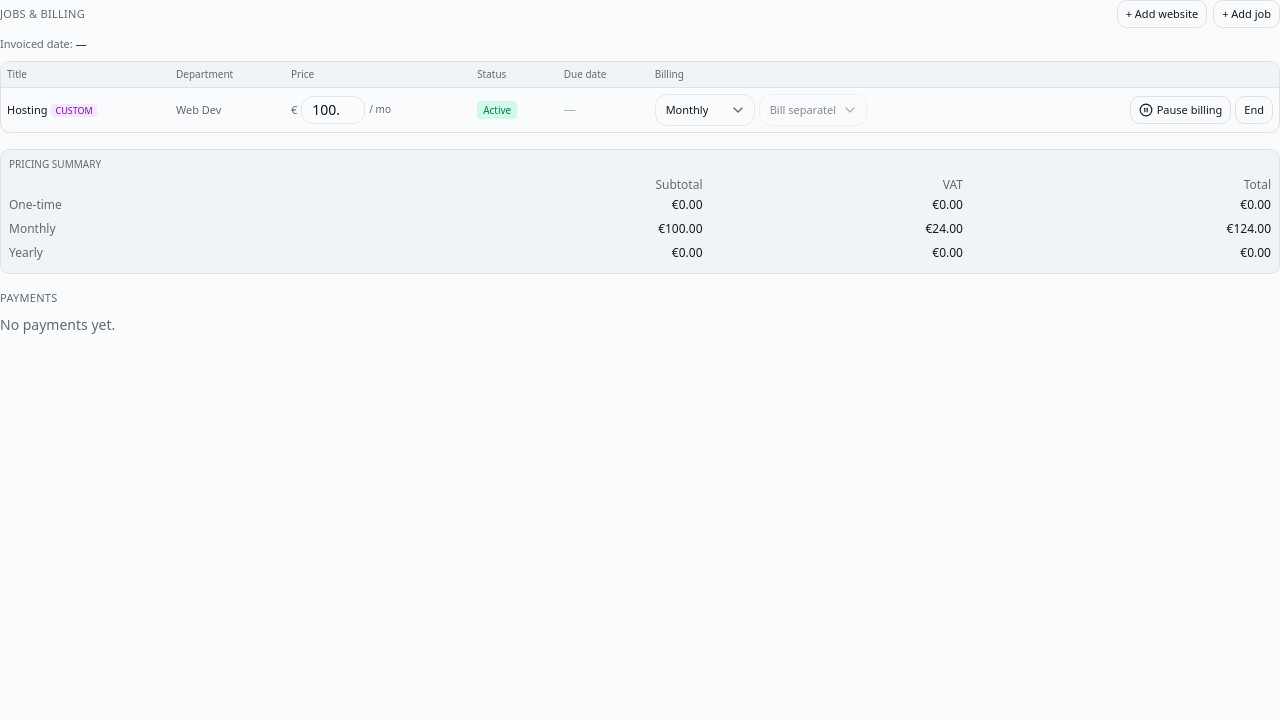
it: JobsBillingPanel end + archive › opens the confirm dialog without the unpaid warning when the balance is zero
The width and height of the screenshot is (1280, 720).
Step 1. Click the button "End" → point(1254, 110), box [1235, 96, 1273, 124]
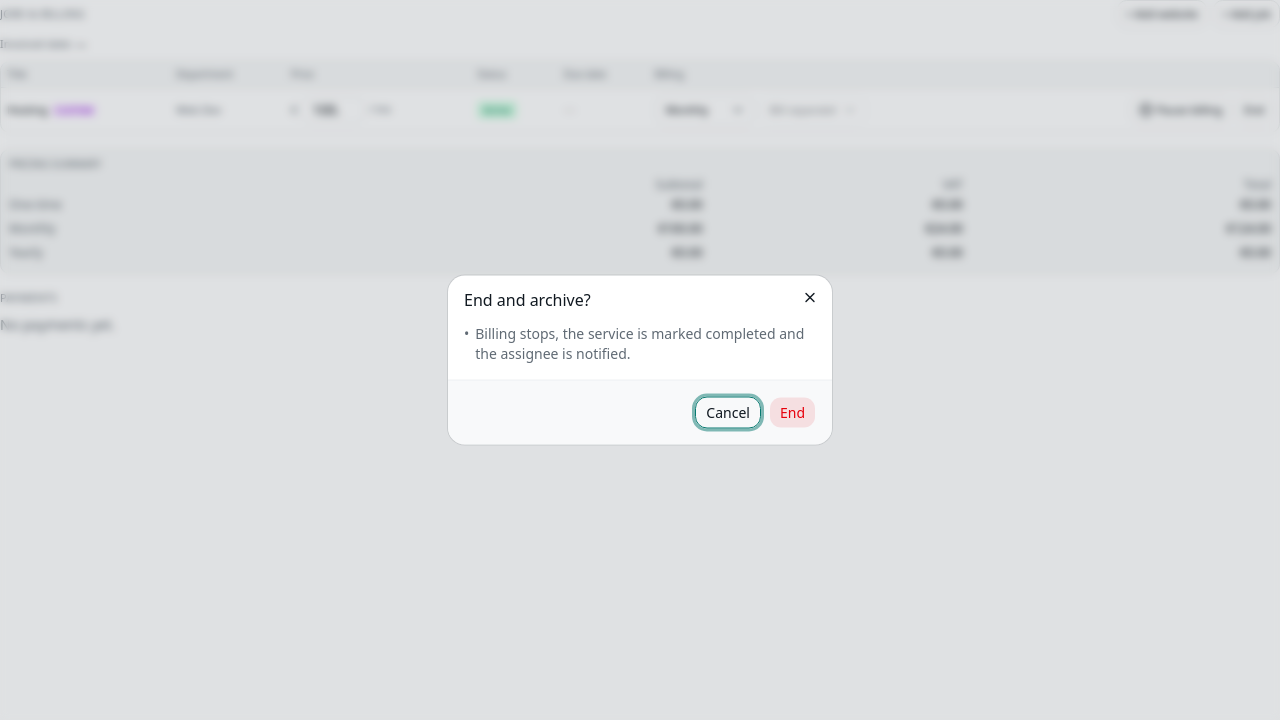
Check: the heading "End and archive?" is shown, box [464, 288, 591, 310]
Check: the text "Billing stops, the service is marked completed" is shown, box [475, 324, 804, 362]
